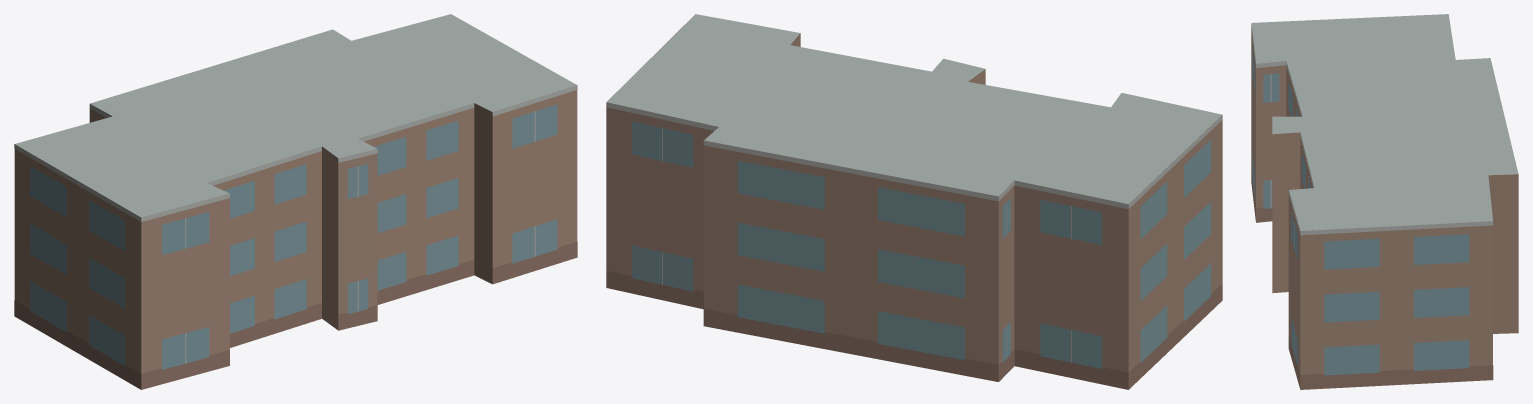
The model's file is survey-upis-32693871.glb.
The picture shows the model from 3 angles, left to right: view 1: azimuth 30°, elevation 25°; view 2: azimuth 150°, elevation 25°; view 3: azimuth 270°, elevation 25°; orthographic projection. The views are drawn at different scales.
Parts seen in each view (by area): view 1: survey-upis-32693871.tmp; view 2: survey-upis-32693871.tmp; view 3: survey-upis-32693871.tmp.
Part boxes in pixels (box(x1,y1,x2,y2)): survey-upis-32693871.tmp: box(14, 14, 577, 389); survey-upis-32693871.tmp: box(606, 14, 1222, 389); survey-upis-32693871.tmp: box(1251, 14, 1518, 389).
Size of the model in its own units: 26.82 by 9.15 by 13.96.
